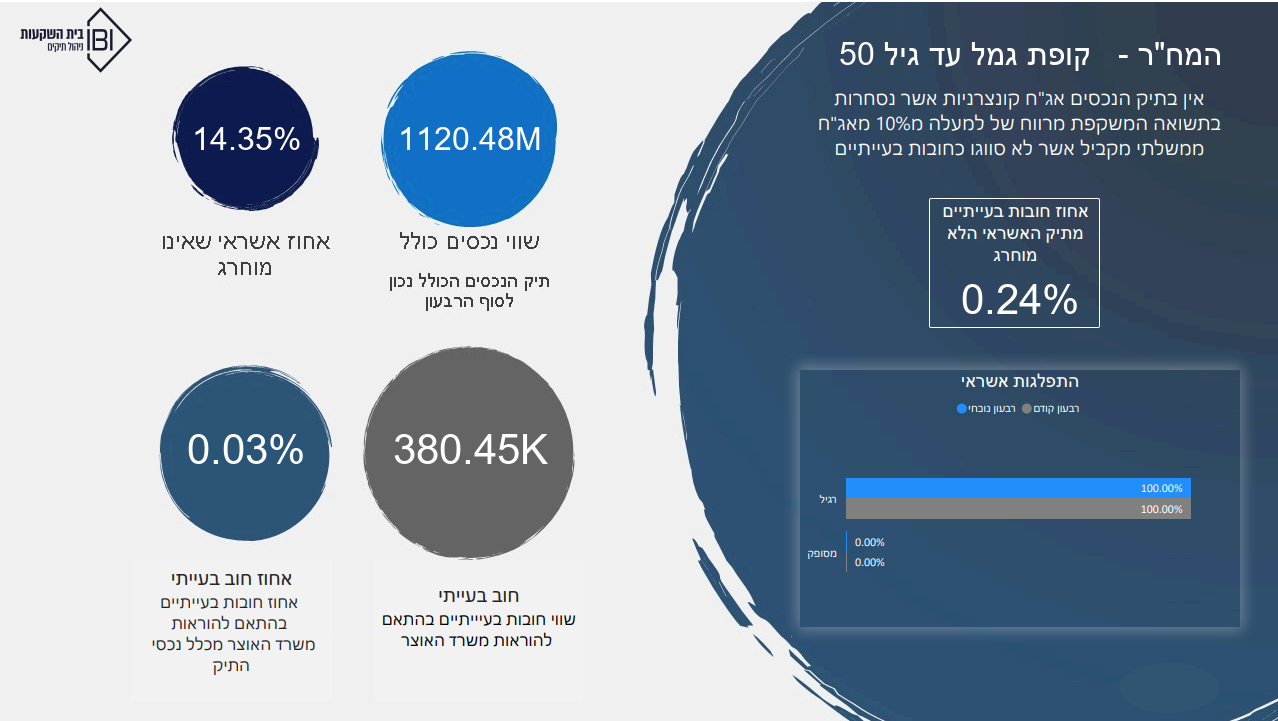

The dashboard page shown, as its layout file describes it:
{"tool":"powerbi","page":{"name":"ריכוז מנהלים 8357","canvas":[1280,720],"ordinal":2},"visuals":[{"type":"card","title":"תיק הנכסים הכולל נכון לסוף הרבעון","fields":{"Values":["Max(Sheet1.שווי תיק)"]},"box":[361.6,71.5,218.6,118.5],"z":0},{"type":"card","title":"אחוז אשראי שאינו מוחרג","fields":{"Values":["Sheet1.אחוז משווי תיק"]},"box":[161.5,77.8,170.2,117.7],"z":1000},{"type":"card","title":"שווי חובות בהשגחה בהתאם להוראות משרד האוצר","fields":{"Values":["Sheet1.שווי נייר נוסחא"]},"box":[335.6,391,280.1,117.7],"z":2000},{"type":"card","title":"אחוז חובות בהשגחה בהתאם להוראות משרד האוצר","fields":{"Values":["Sheet1.אחוז משווי תיק"]},"box":[107,391,280.1,117.7],"z":3000},{"type":"image","box":[0,0,152.4,76.2],"z":4000},{"type":"textbox","box":[801.5,77.8,436.7,100.2],"z":5000},{"type":"card","title":"אחוז חובות בעייתיים מתיק האשראי הלא מוחרג","fields":{"Values":["Sheet1.אחוז מאפיק נוסחא"]},"box":[928.9,195.5,171.2,130.3],"z":6000},{"type":"clusteredBarChart","title":"התפלגות אשראי","fields":{"Category":["סוג אגח.UserEnumsName"],"Y":["Sum(Sheet1.אחוז משווי תיק לפי שיערוך אחרון)","Sum(Lastq.אחוז משווי תיק לפי שיערוך אחרון)"]},"box":[799.5,367.7,440.6,257.8],"z":7000},{"type":"card","fields":{"Values":["Min(NumberTik.NameGroup)"]},"box":[799.5,0,480.5,72],"z":8000},{"type":"textbox","box":[152.7,550.5,201.3,149.8],"z":9000},{"type":"textbox","box":[372.5,563.2,190.6,137.1],"z":10000}]}

Visuals, with their boxes in screenshot pixels (x1, y1, x2, y2), scaled from the page's 1280x720 canvas onto the 1278x721 screenshot:
"תיק הנכסים הכולל נכון לסוף הרבעון" card: [left=361, top=72, right=579, bottom=190]
"אחוז אשראי שאינו מוחרג" card: [left=161, top=78, right=331, bottom=196]
"שווי חובות בהשגחה בהתאם להוראות משרד האוצר" card: [left=335, top=392, right=615, bottom=509]
"אחוז חובות בהשגחה בהתאם להוראות משרד האוצר" card: [left=107, top=392, right=386, bottom=509]
image: [left=0, top=0, right=152, bottom=76]
textbox: [left=800, top=78, right=1236, bottom=178]
"אחוז חובות בעייתיים מתיק האשראי הלא מוחרג" card: [left=927, top=196, right=1098, bottom=326]
"התפלגות אשראי" clusteredBarChart: [left=798, top=368, right=1238, bottom=626]
card - Min(NumberTik.NameGroup): [left=798, top=0, right=1277, bottom=72]
textbox: [left=152, top=551, right=353, bottom=701]
textbox: [left=372, top=564, right=562, bottom=701]
